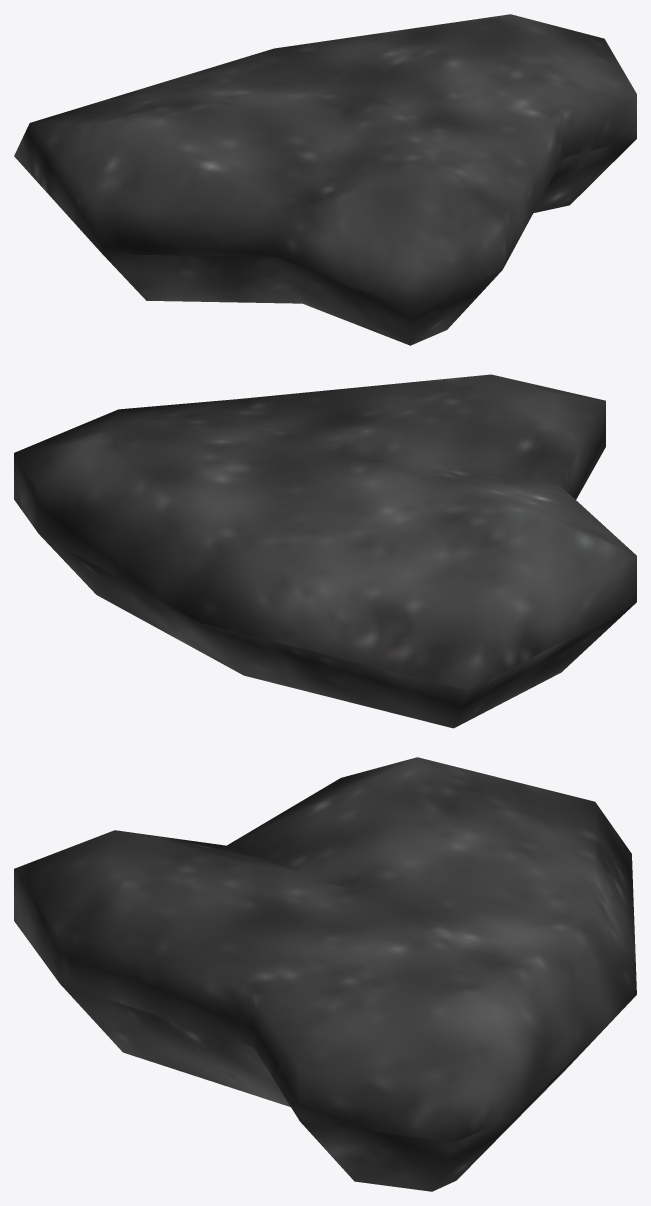
Rendered from rock03.fbx.
3 views of the same model, one above another, from view 1: azimuth 30°, elevation 25°; view 2: azimuth 150°, elevation 25°; view 3: azimuth 270°, elevation 25° (orthographic). The views are drawn at different scales.
Parts seen in each view (by area): view 1: Cube; view 2: Cube; view 3: Cube.
Boxes of the visible parts, x1,y1,x2,y2 form: Cube: (14,14,636,345); Cube: (14,374,636,728); Cube: (14,757,636,1191).
Size of the model in its own units: 255 by 72.49 by 214.
